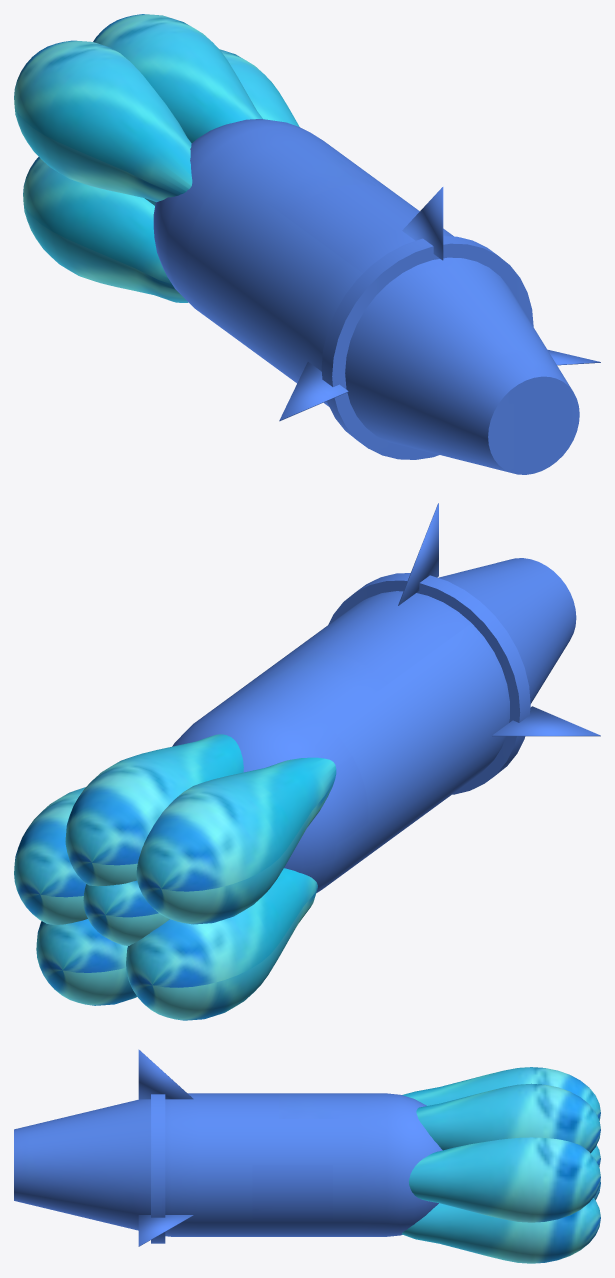
File: Nuclear_obj.obj
3 views of the same model, one above another, from view 1: azimuth 30°, elevation 25°; view 2: azimuth 150°, elevation 25°; view 3: azimuth 270°, elevation 25° (orthographic). The views are drawn at different scales.
Parts seen in each view (by area): view 1: Bomba_Nuclear, Hielo; view 2: Bomba_Nuclear, Hielo; view 3: Bomba_Nuclear, Hielo.
Boxes of the visible parts, bbox=[...] form: Bomba_Nuclear: bbox=[153, 119, 600, 474]; Hielo: bbox=[14, 14, 299, 302]; Bomba_Nuclear: bbox=[172, 503, 600, 892]; Hielo: bbox=[14, 734, 336, 1020]; Bomba_Nuclear: bbox=[14, 1049, 442, 1246]; Hielo: bbox=[402, 1067, 600, 1263].
Size of the model in its own units: 14.16 by 12.27 by 33.
